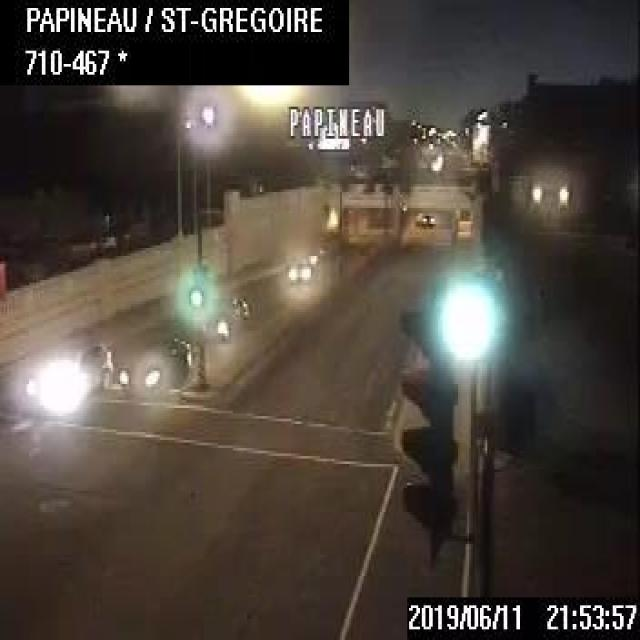vehicle: (23, 338, 112, 412), (118, 333, 187, 387), (191, 290, 249, 338), (287, 248, 322, 277), (420, 211, 435, 224)
